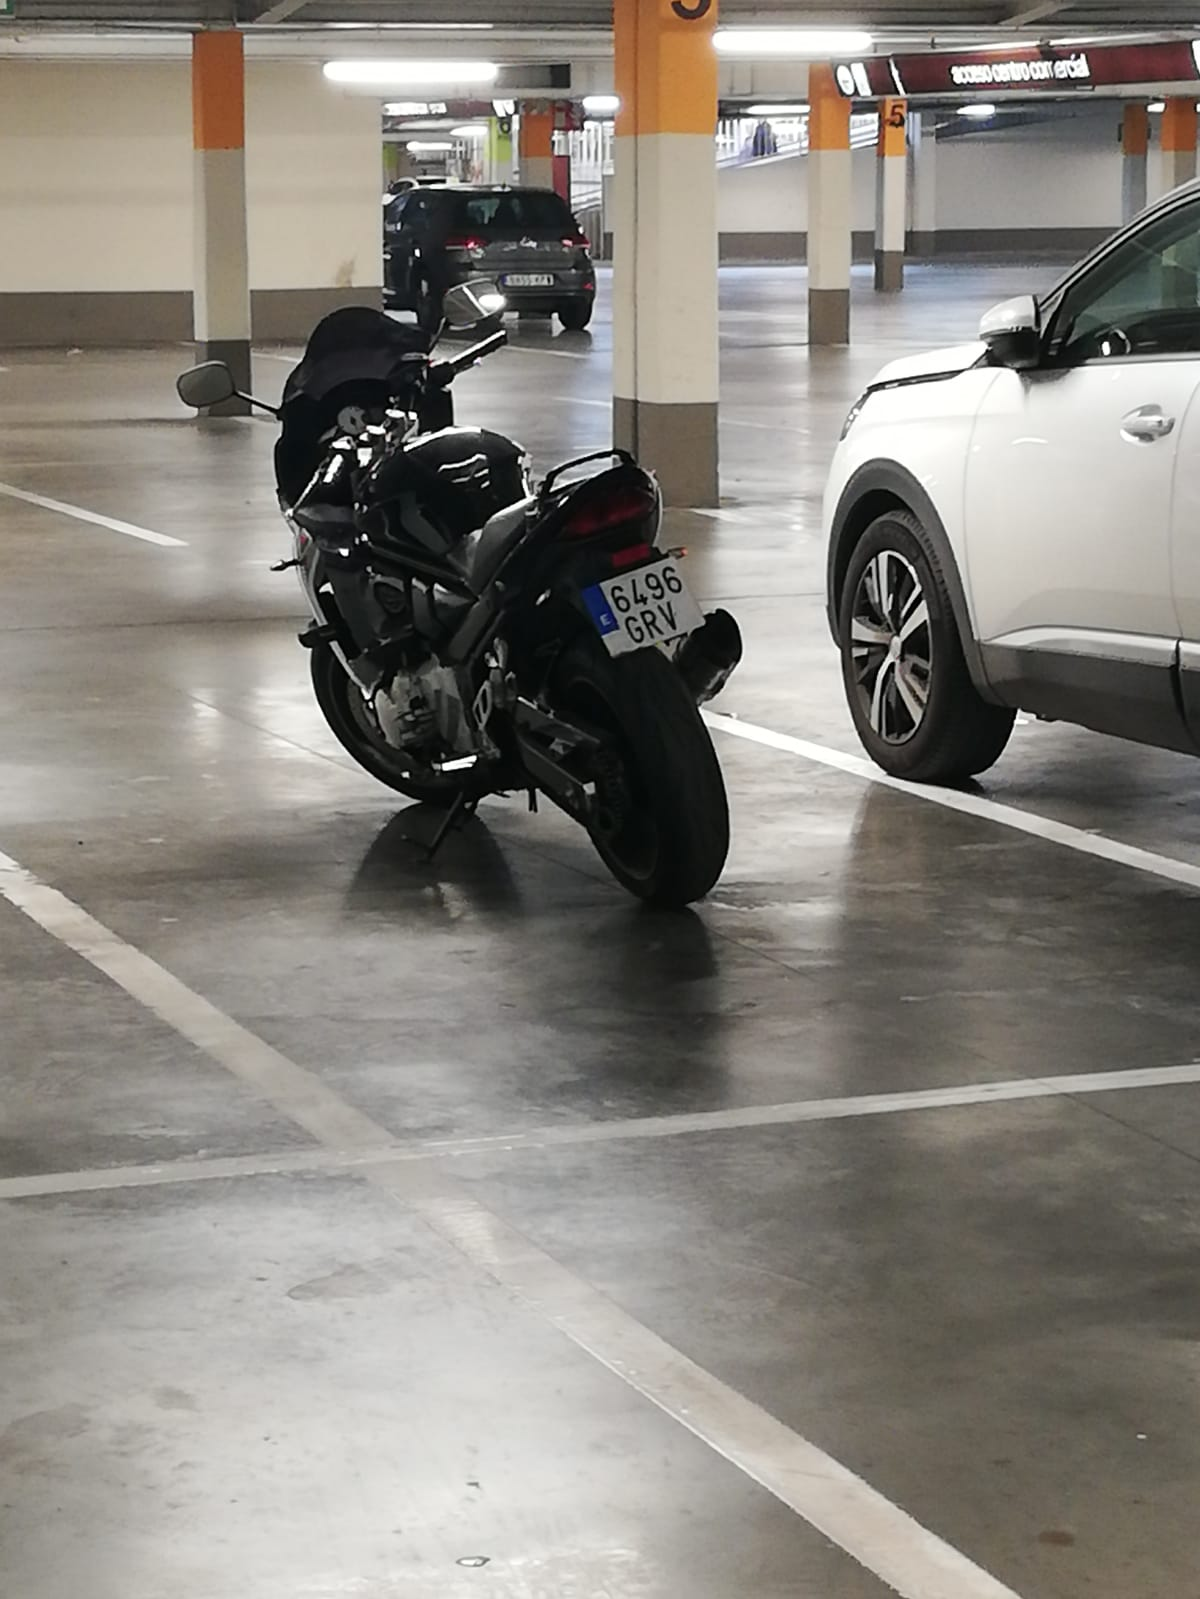Car: (180, 306, 751, 911)
Plate: (581, 592, 690, 661)
